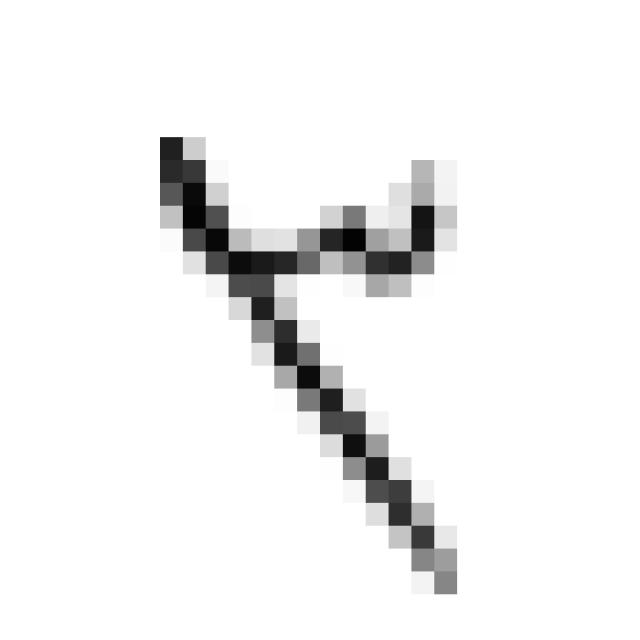3 -three-: (137, 108, 492, 625)
